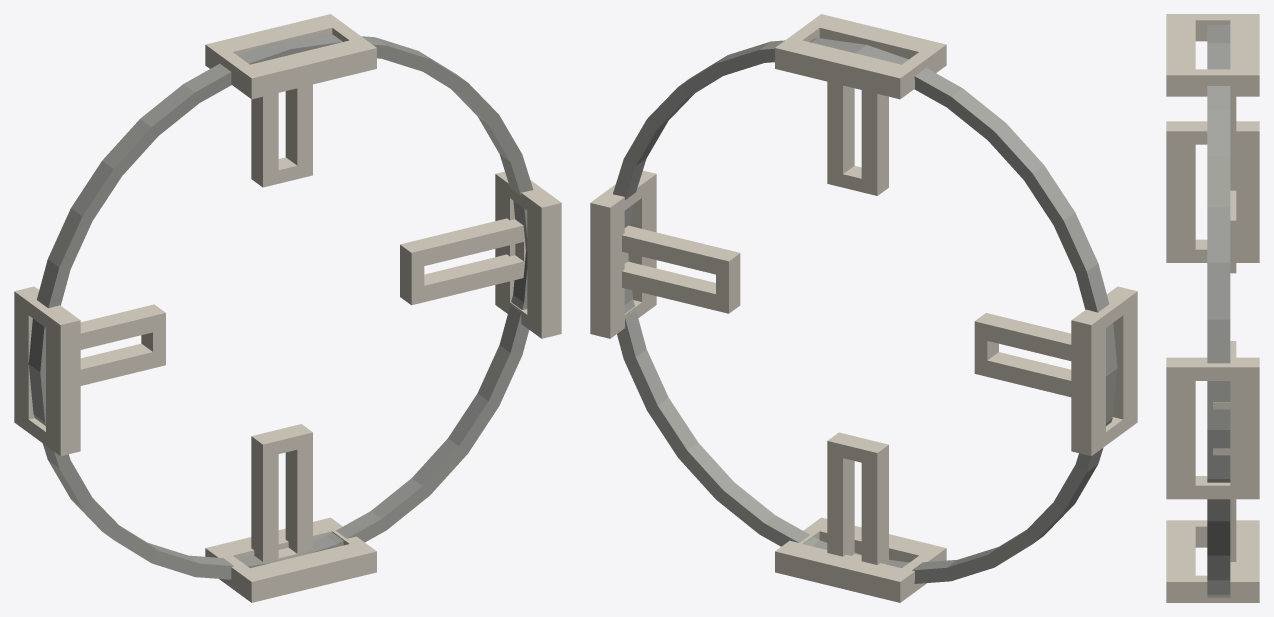
Rendered from command_centre.glb.
3 renders of one model, left to right at view 1: azimuth 30°, elevation 25°; view 2: azimuth 150°, elevation 25°; view 3: azimuth 270°, elevation 25°, orthographic.
Parts seen in each view (by area): view 1: Cylinder; view 2: Cylinder; view 3: Cylinder.
Boxes of the visible parts, bbox=[...] form: Cylinder: bbox=[14, 14, 561, 602]; Cylinder: bbox=[590, 14, 1137, 602]; Cylinder: bbox=[1166, 14, 1259, 602].
Size of the model in its own units: 100 by 100 by 16.
